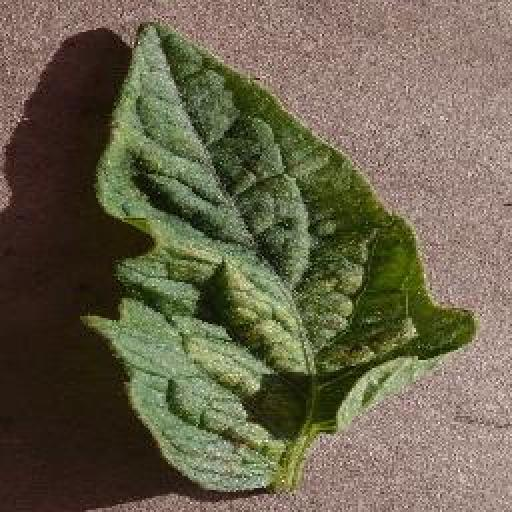disease_tomato: (84, 12, 479, 497)
